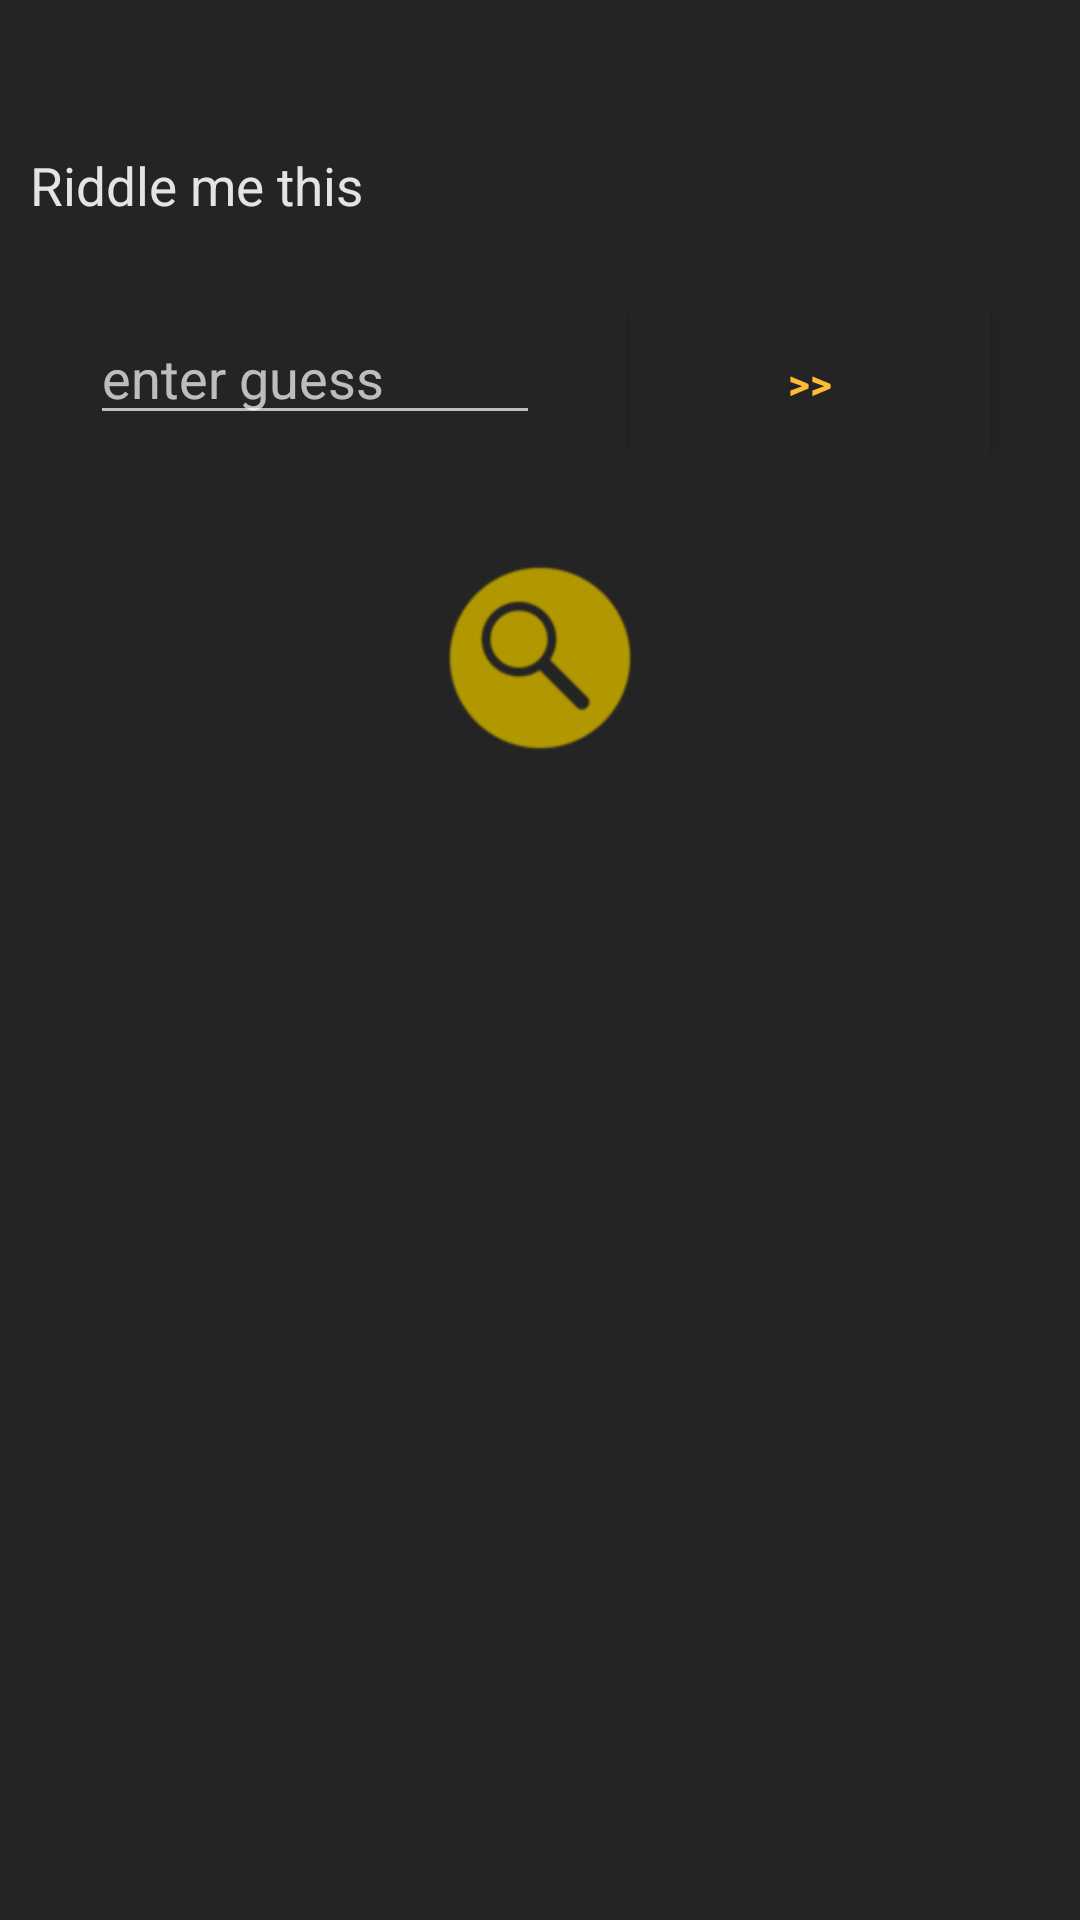

Icons on this 1080x1920 Android screen, each with the point to tap as [x,y]:
magniglass: [540,658]
